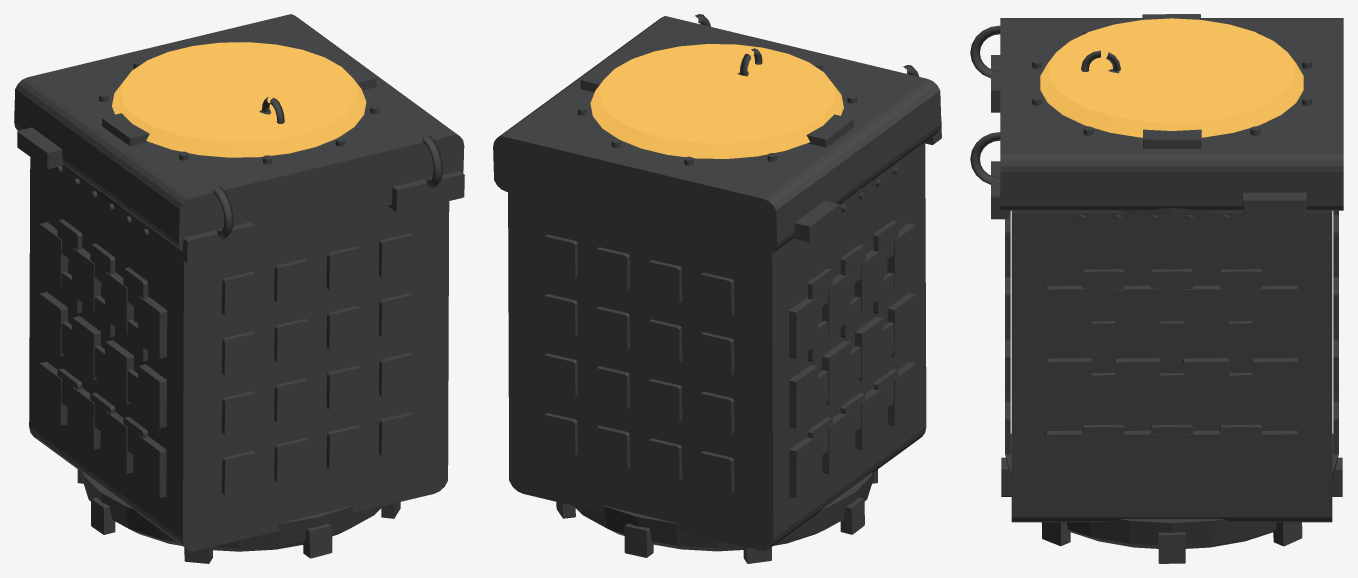
The model's file is equipment_thermite.glb.
3 views of the same model, side by side, from view 1: azimuth 30°, elevation 25°; view 2: azimuth 150°, elevation 25°; view 3: azimuth 270°, elevation 25° (orthographic). The views are drawn at different scales.
Parts seen in each view (by area): view 1: equipment_thermite__equipment_thermite, equipment_thermite__glow; view 2: equipment_thermite__equipment_thermite, equipment_thermite__glow; view 3: equipment_thermite__equipment_thermite, equipment_thermite__glow.
Part boxes in pixels (x1=…): equipment_thermite__equipment_thermite: x1=14, y1=14, x2=464, y2=563; equipment_thermite__glow: x1=112, y1=42, x2=366, y2=157; equipment_thermite__equipment_thermite: x1=493, y1=14, x2=941, y2=563; equipment_thermite__glow: x1=590, y1=44, x2=843, y2=158; equipment_thermite__equipment_thermite: x1=970, y1=14, x2=1343, y2=563; equipment_thermite__glow: x1=1040, y1=18, x2=1303, y2=137.
Bounding box in the file's own units: 0.332 × 0.4254 × 0.3262.
